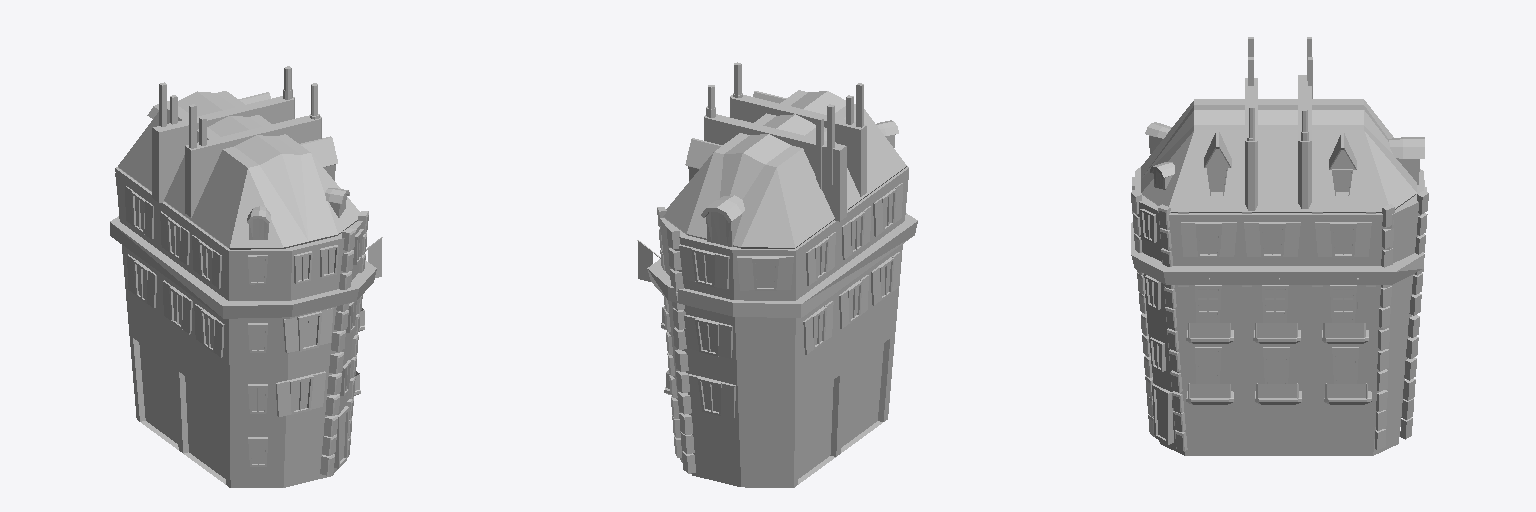
File: house3.obj
3 views of the same model, side by side, from view 1: azimuth 30°, elevation 25°; view 2: azimuth 150°, elevation 25°; view 3: azimuth 270°, elevation 25° (orthographic).
Parts seen in each view (by area): view 1: house3:pCube520; view 2: house3:pCube520; view 3: house3:pCube520.
Boxes of the visible parts, x1=… form: house3:pCube520: x1=110, y1=66, x2=382, y2=487; house3:pCube520: x1=637, y1=62, x2=917, y2=487; house3:pCube520: x1=1131, y1=37, x2=1428, y2=455.
Bounding box in the file's own units: 9.35 × 17.53 × 13.16.